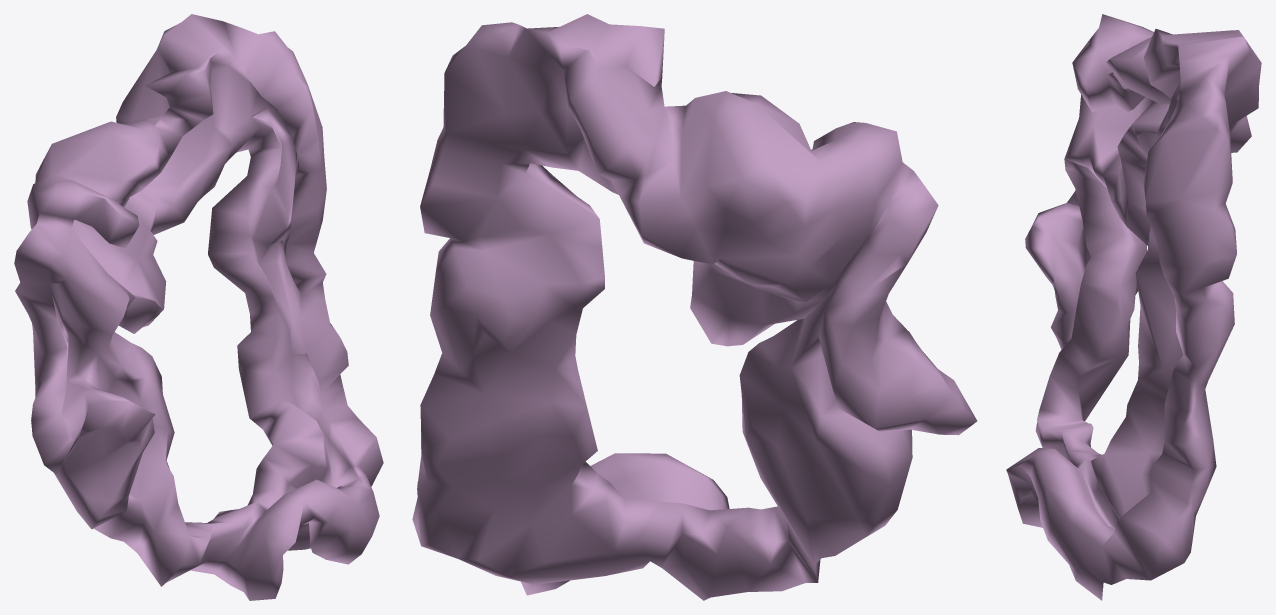
3 renders of one model, left to right at view 1: azimuth 30°, elevation 25°; view 2: azimuth 150°, elevation 25°; view 3: azimuth 270°, elevation 25°, orthographic. The views are drawn at different scales.
Parts seen in each view (by area): view 1: 右侧眶回; view 2: 右侧眶回; view 3: 右侧眶回.
Boxes of the visible parts, x1,y1,x2,y2 form: 右侧眶回: (14,14,383,600); 右侧眶回: (412,14,977,600); 右侧眶回: (1006,14,1261,600).
Bounding box in the file's own units: 0.0718 × 0.0905 × 0.0401.
